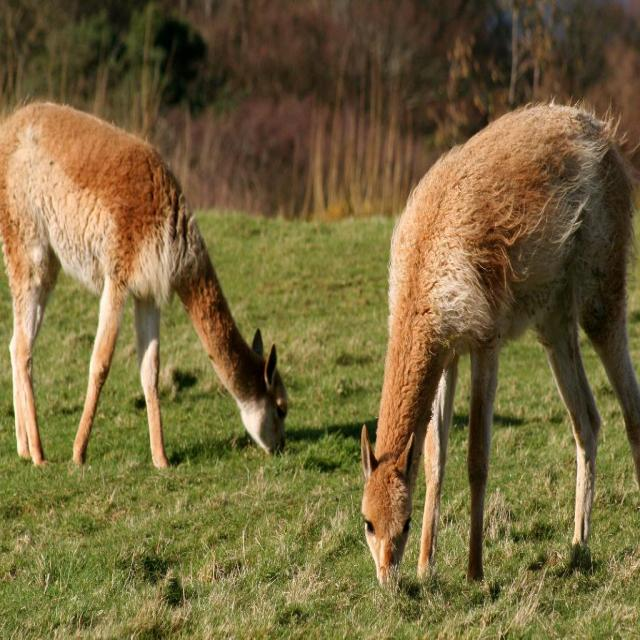Deer: (360, 92, 640, 585), (0, 90, 288, 469)
